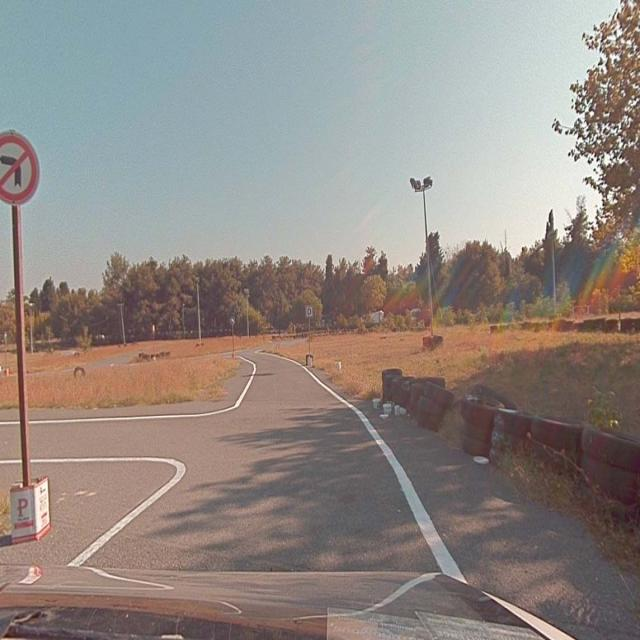durak: (306, 306, 312, 316)
soladonulmez: (1, 133, 40, 204)
